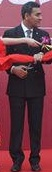boots: (10, 162, 20, 171), (31, 163, 41, 171)
